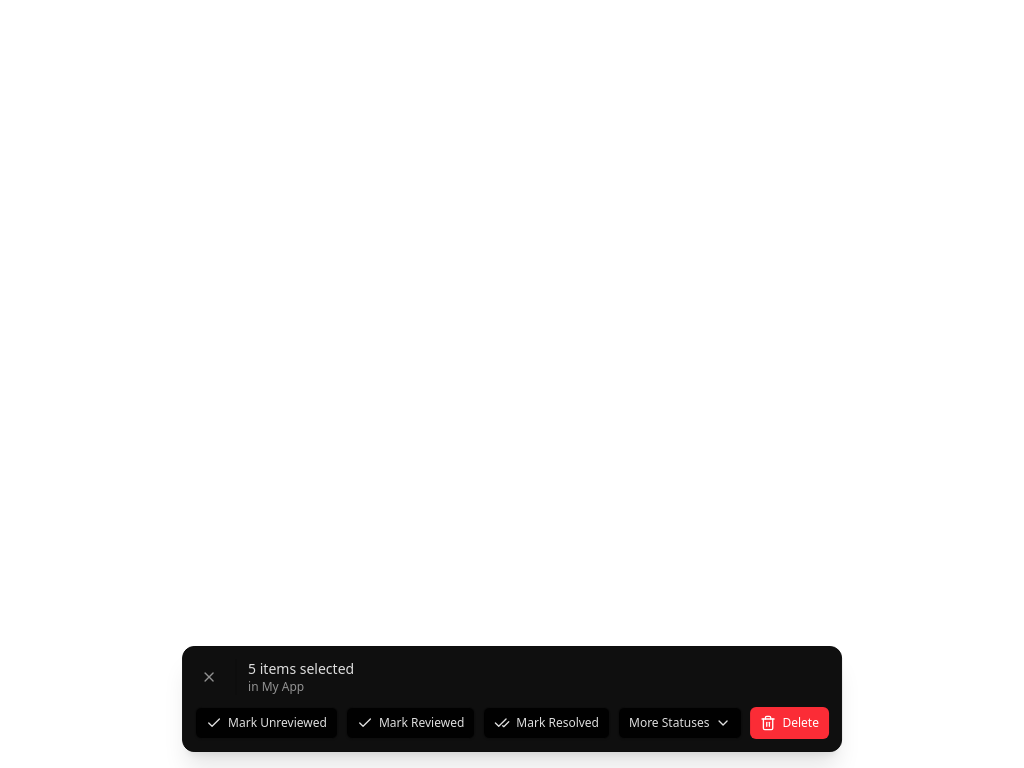
BulkActionBar › delete confirmation modal › shows plural delete text for count > 1 in a single project
Step 1. Click the button "Delete" → (790, 723), box [750, 707, 829, 739]
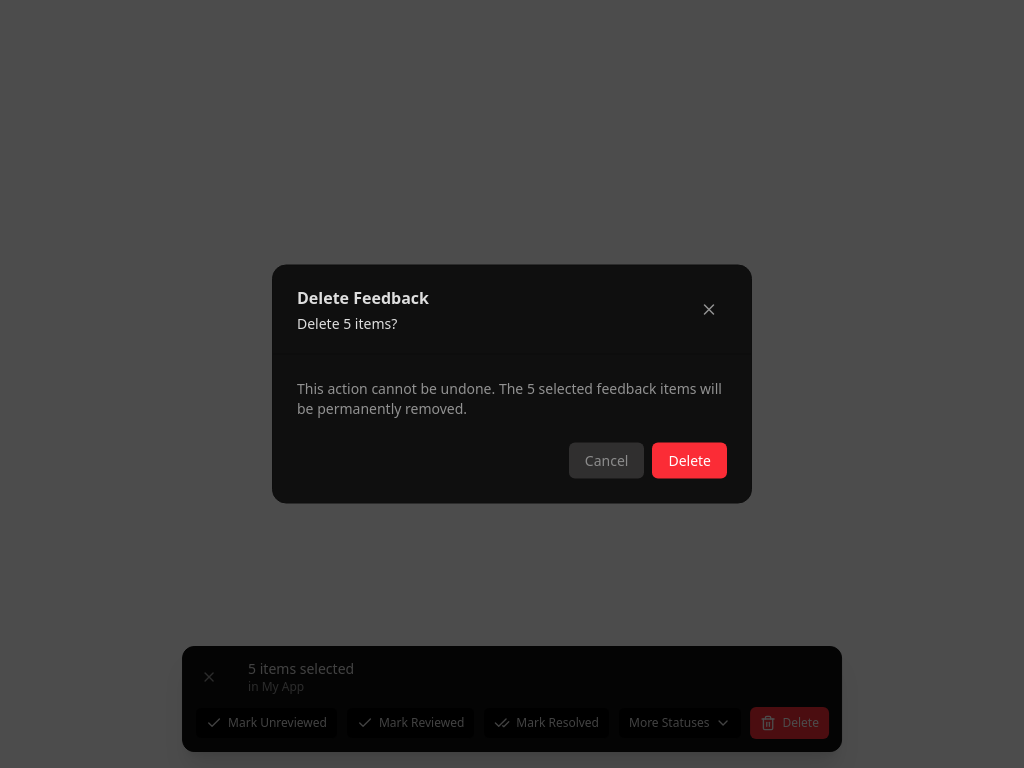
Now the text "Delete 5 items?" is shown, box [297, 314, 397, 332]
